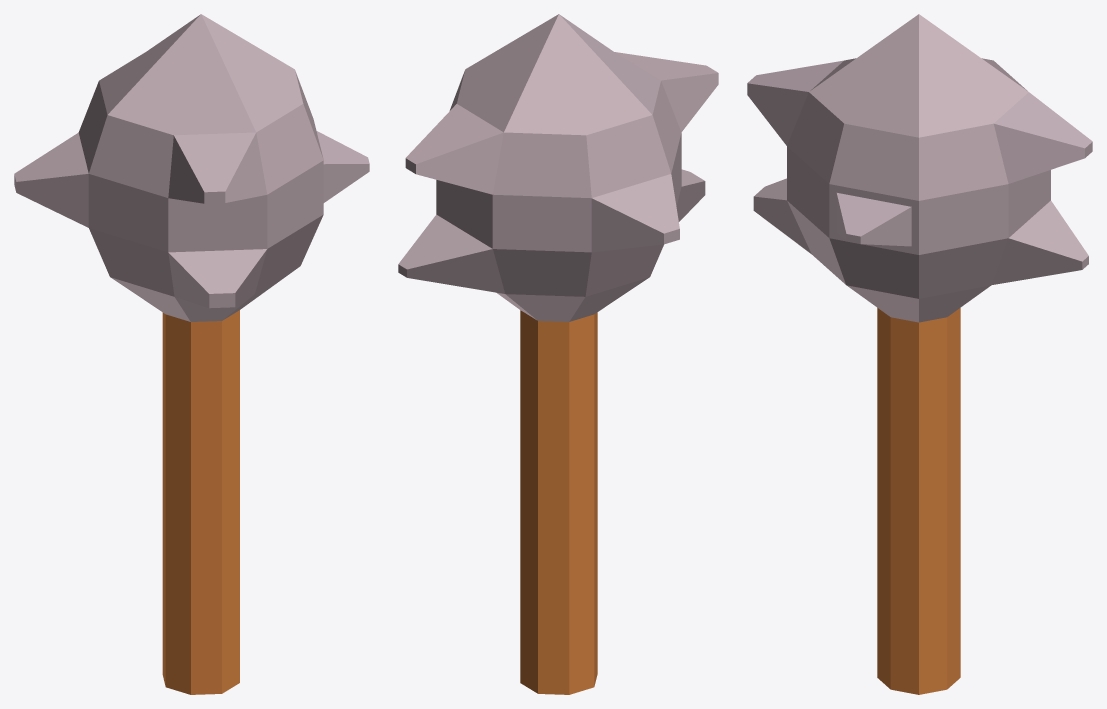
Rendered from steel_warhammer.glb.
The picture shows the model from 3 angles, left to right: view 1: azimuth 30°, elevation 25°; view 2: azimuth 150°, elevation 25°; view 3: azimuth 270°, elevation 25°; orthographic projection.
Visible parts, largest first — view 1: Cube; view 2: Cube; view 3: Cube.
Boxes of the visible parts, x1,y1,x2,y2 form: Cube: [14, 14, 369, 694]; Cube: [398, 14, 718, 694]; Cube: [747, 14, 1092, 694].
Bounding box in the file's own units: 1.55 × 3.4 × 1.6.
